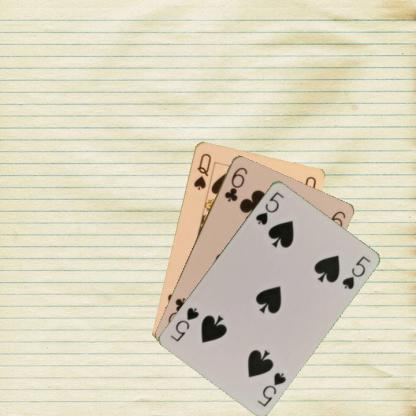5s: (252, 188, 286, 226), (254, 369, 287, 408)
6c: (221, 164, 249, 203)
Qs: (190, 150, 212, 191)
